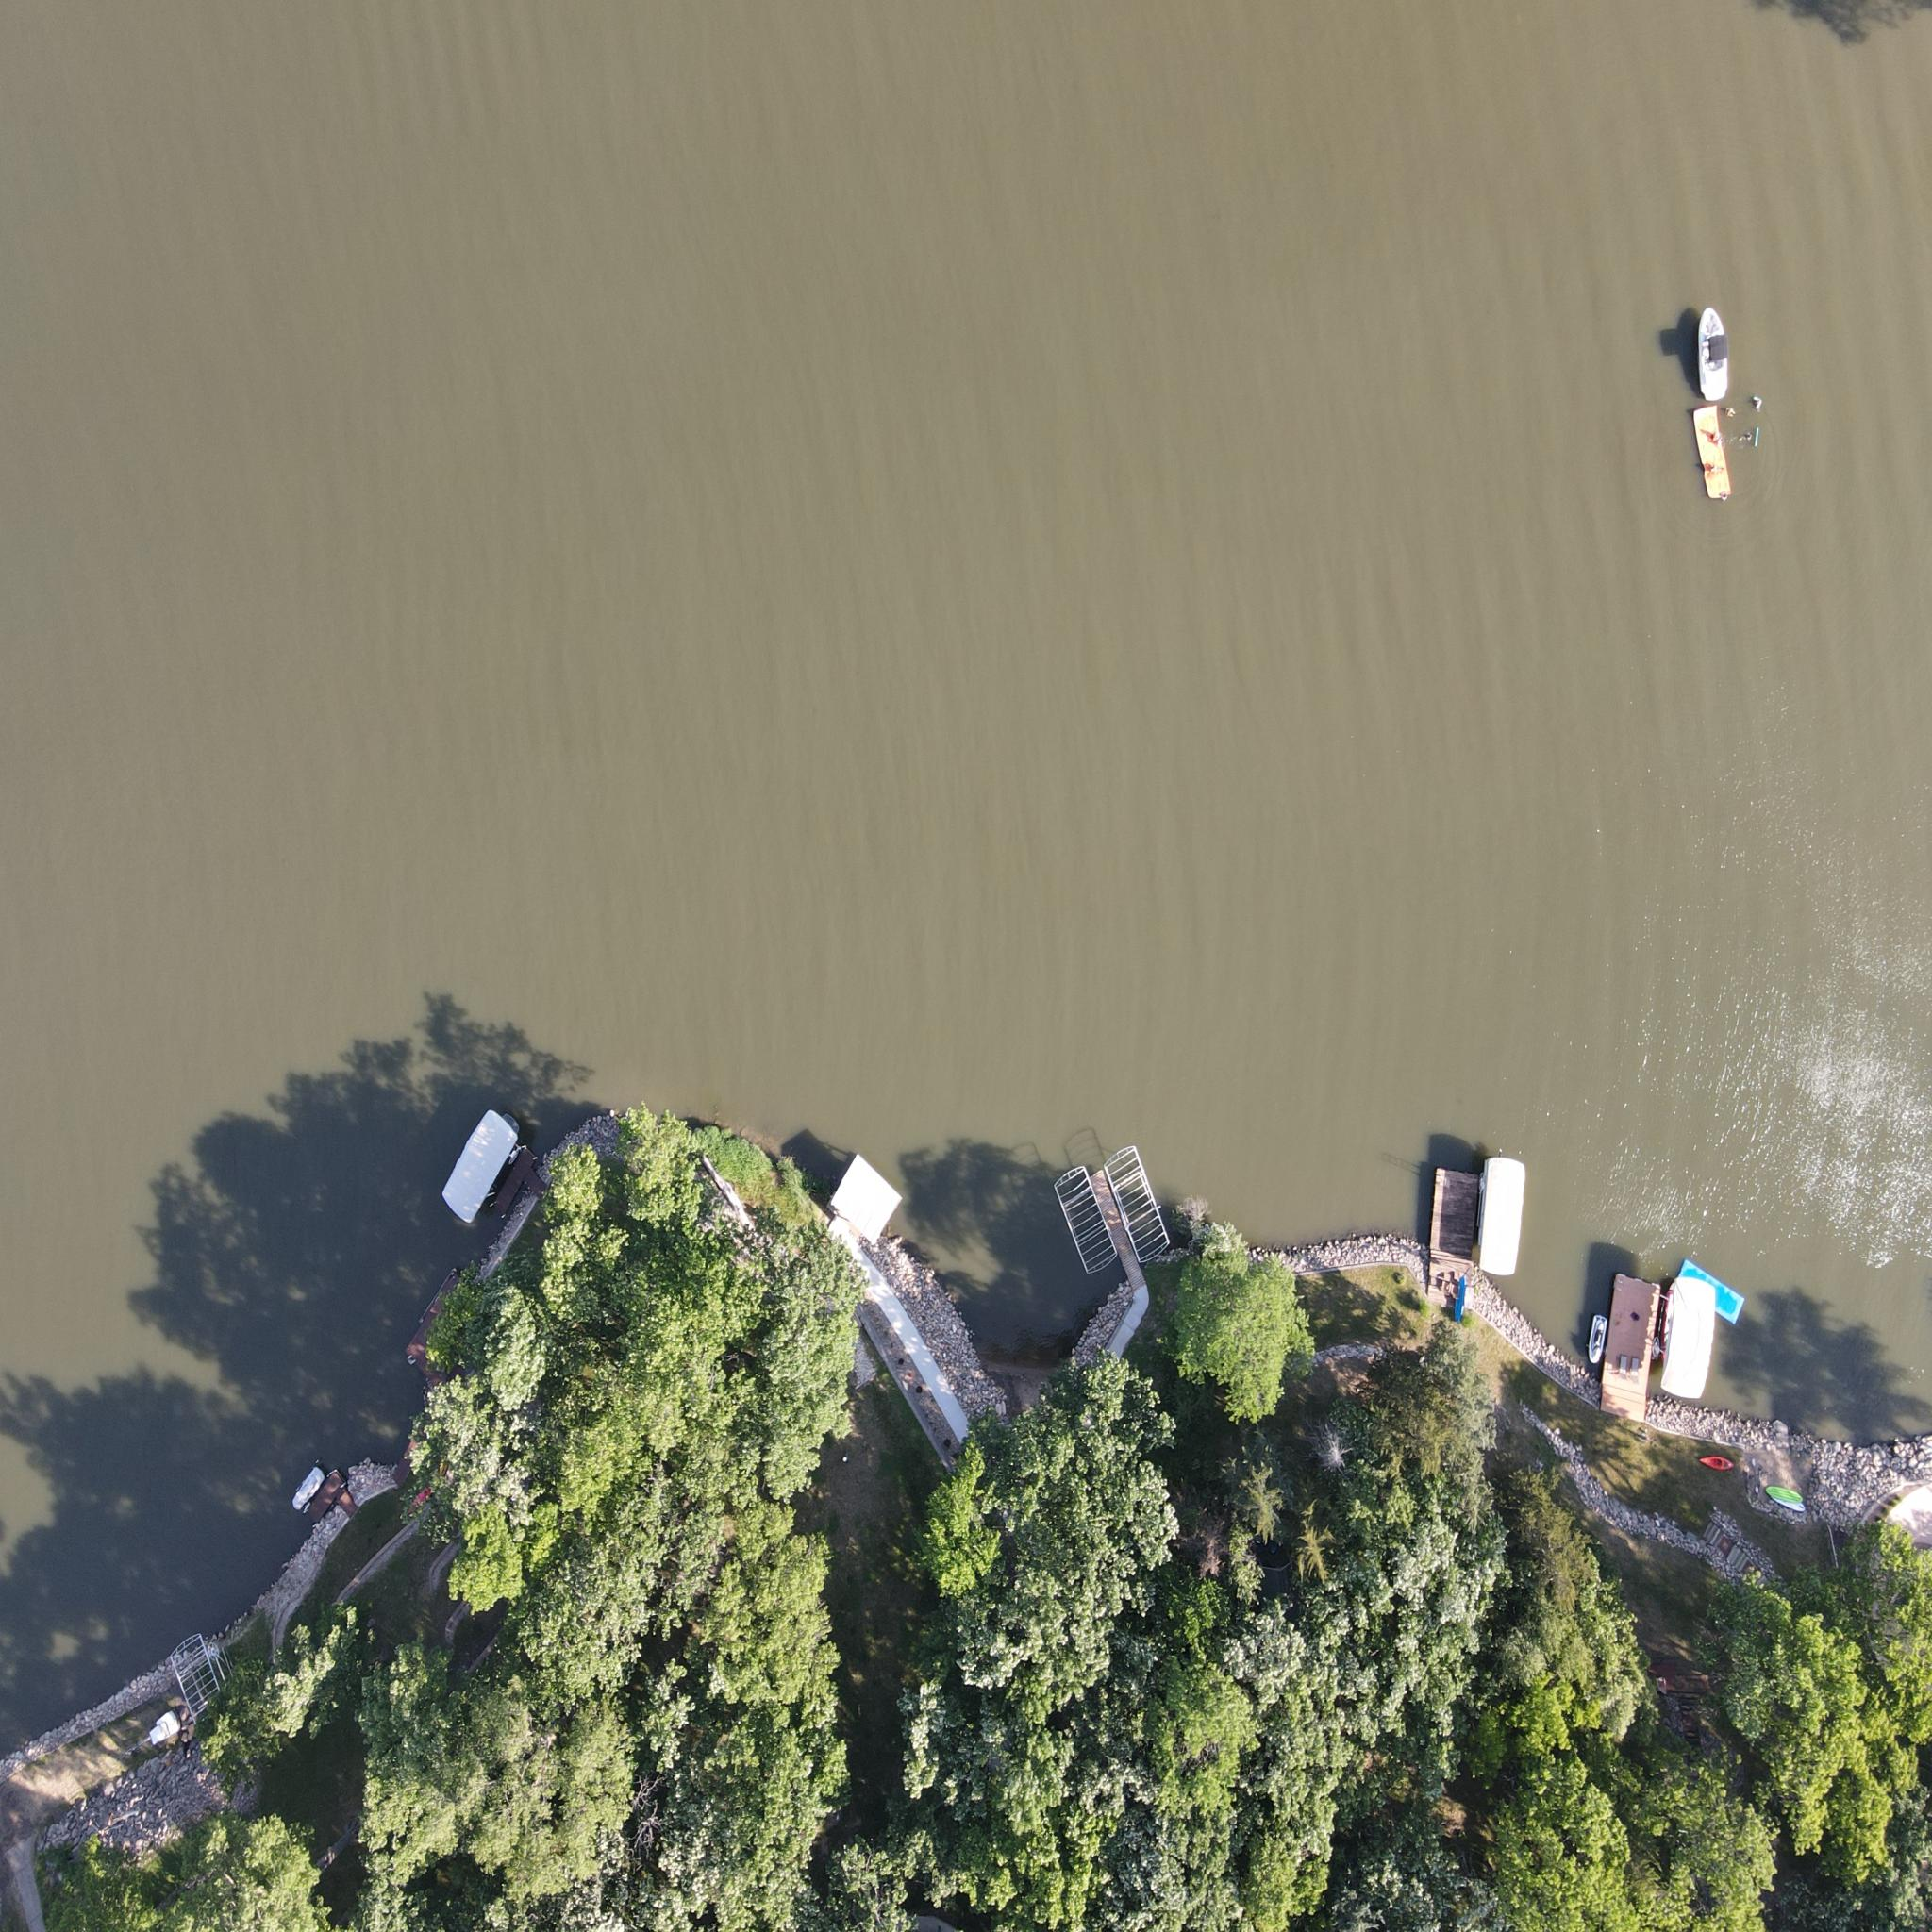boat: (1681, 303, 1748, 403)
dock: (1603, 1263, 1667, 1442), (1081, 1168, 1159, 1311), (1424, 1159, 1486, 1325), (407, 1274, 478, 1392), (832, 1150, 901, 1244), (492, 1150, 554, 1223), (301, 1476, 357, 1532)
jetski: (1585, 1315, 1614, 1362), (292, 1468, 322, 1504)
lift: (441, 1108, 527, 1238), (1663, 1258, 1725, 1424), (166, 1638, 249, 1760), (1111, 1145, 1185, 1274), (1056, 1155, 1116, 1281), (1479, 1154, 1534, 1281)
